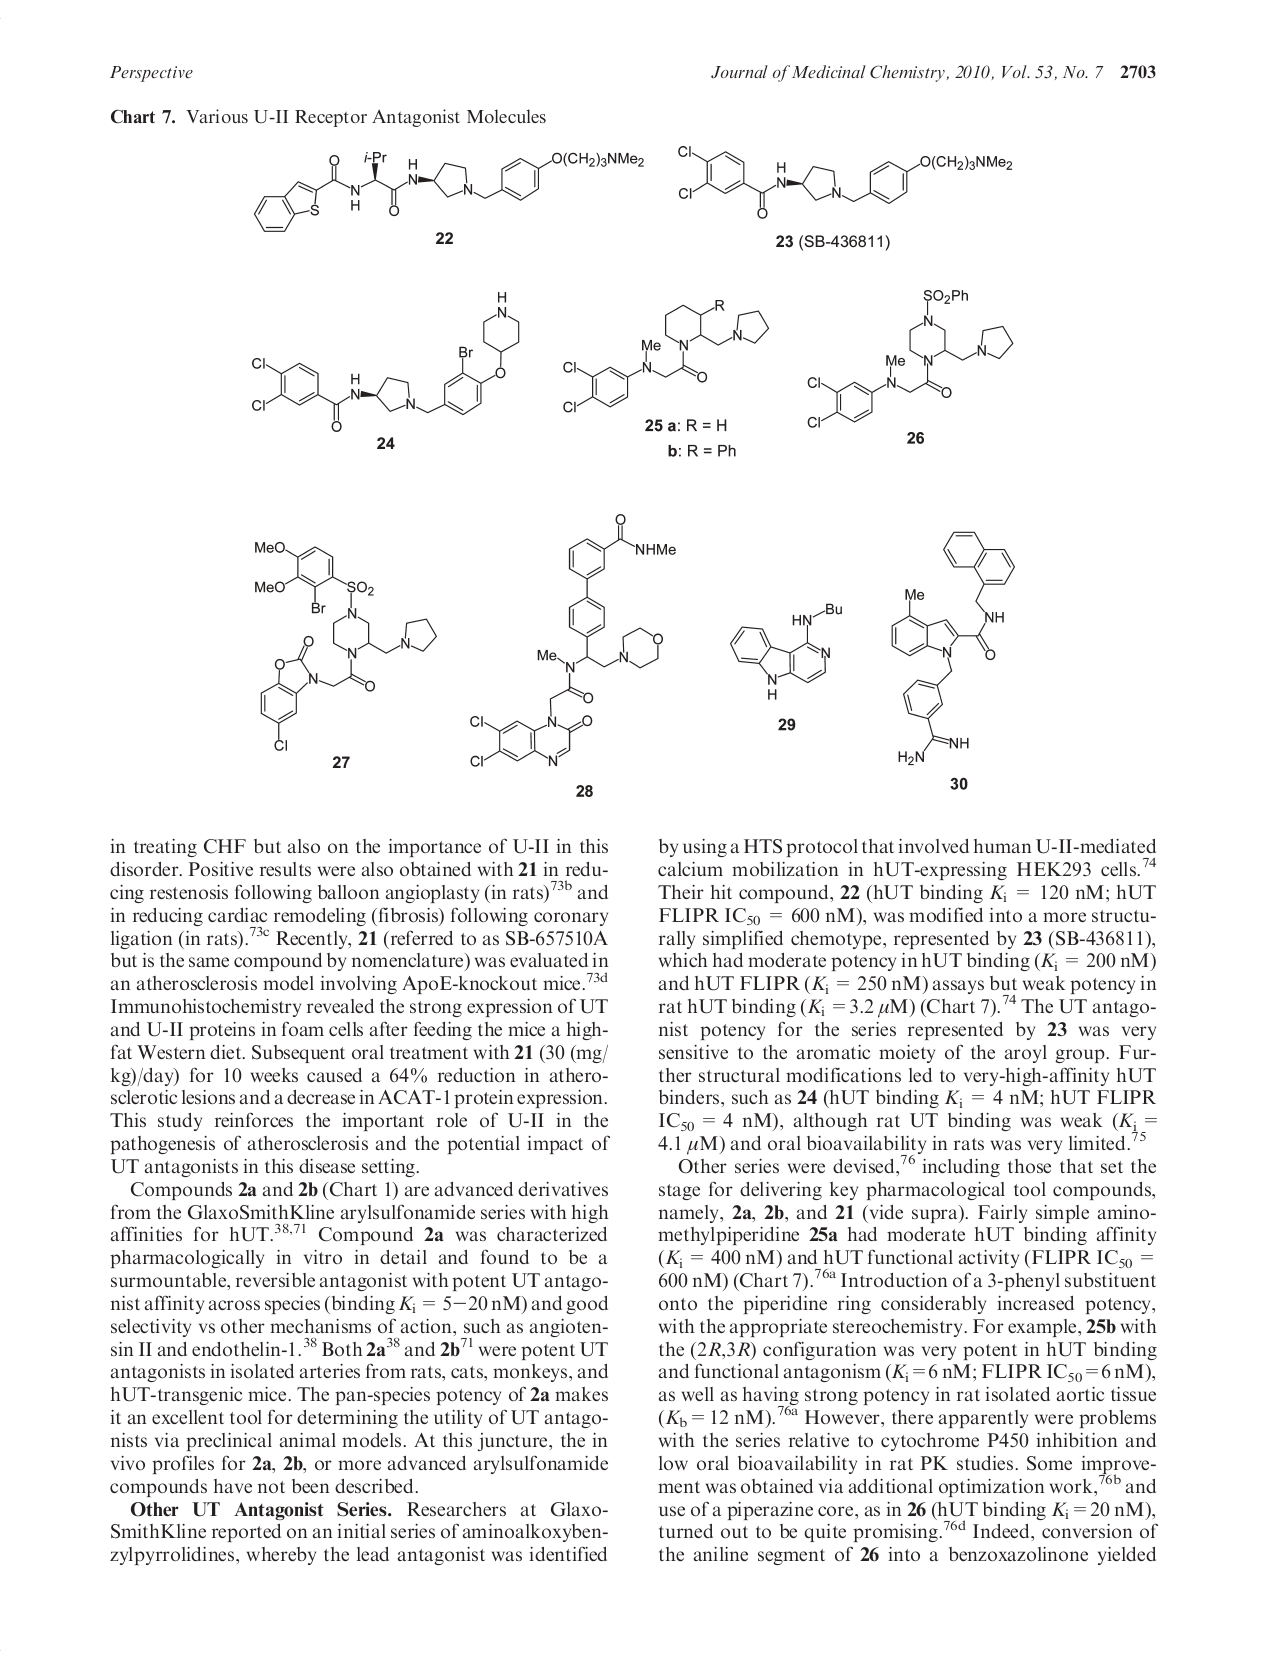exist_molecular: (467, 513, 677, 767), (251, 540, 439, 753), (250, 290, 523, 434), (254, 149, 648, 235), (890, 531, 1019, 766), (805, 286, 1015, 428), (677, 140, 1015, 221), (560, 298, 771, 416), (726, 598, 844, 702)
